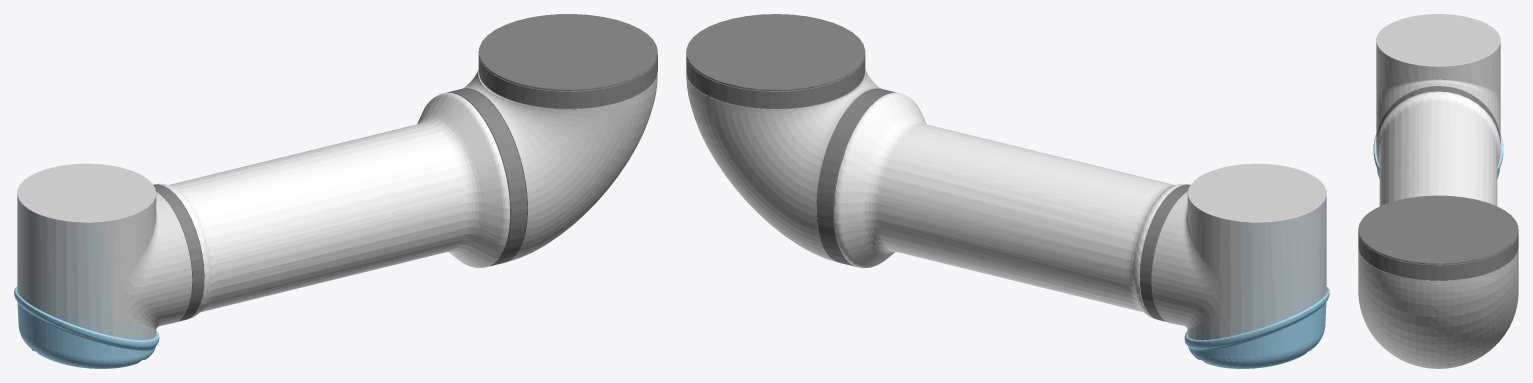
File: UR16eLink3.dae
The picture shows the model from 3 angles, left to right: view 1: azimuth 30°, elevation 25°; view 2: azimuth 150°, elevation 25°; view 3: azimuth 270°, elevation 25°; orthographic projection. The views are drawn at different scales.
Visible parts, largest first — view 1: UR16eLink3; view 2: UR16eLink3; view 3: UR16eLink3.
Part boxes in pixels (x1=…): UR16eLink3: x1=14, y1=14, x2=657, y2=368; UR16eLink3: x1=686, y1=14, x2=1329, y2=368; UR16eLink3: x1=1358, y1=14, x2=1518, y2=368.
Size of the model in its own units: 0.465 by 0.116 by 0.1318.
